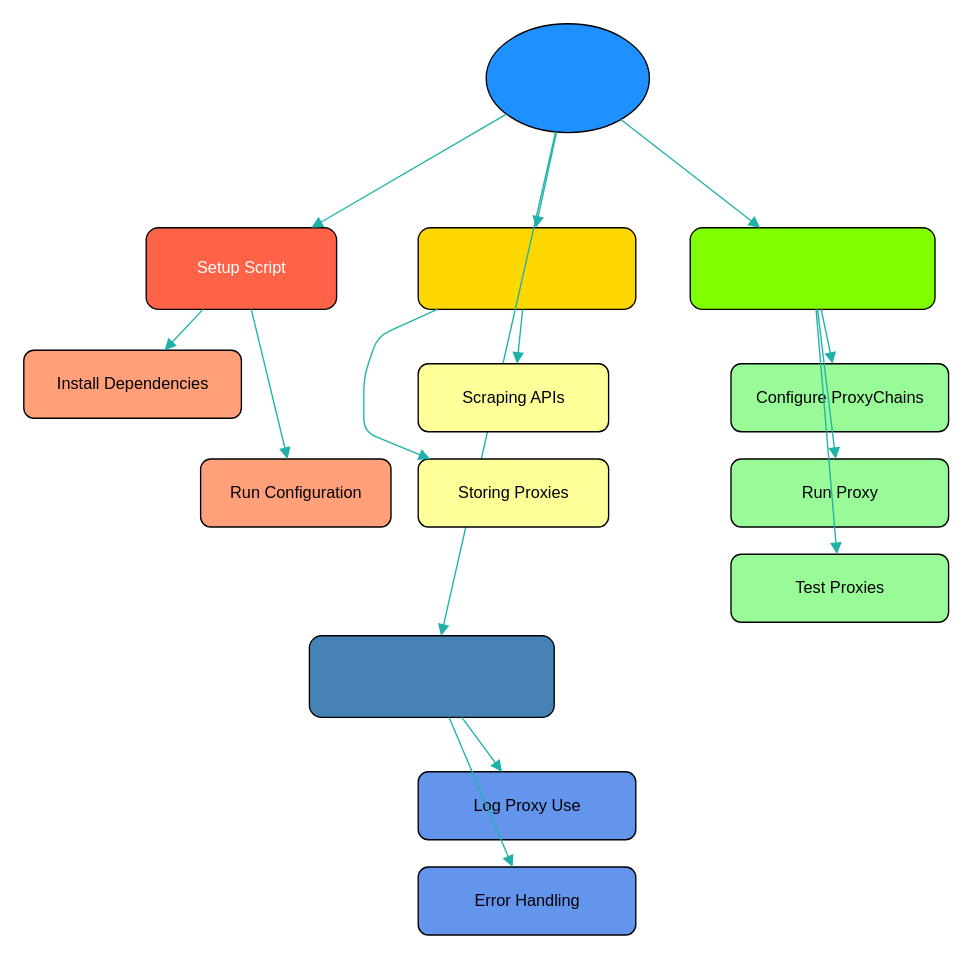
Some shapes in this 972 by 959 pixel diagram are drawn without their labels. Each missing label, with the centre of its shape:
Logging & Error Handling: (431,675)
Main Script (PConT.sh): (812,267)
PConT: (567,77)
Proxy Acquisition: (526,267)
